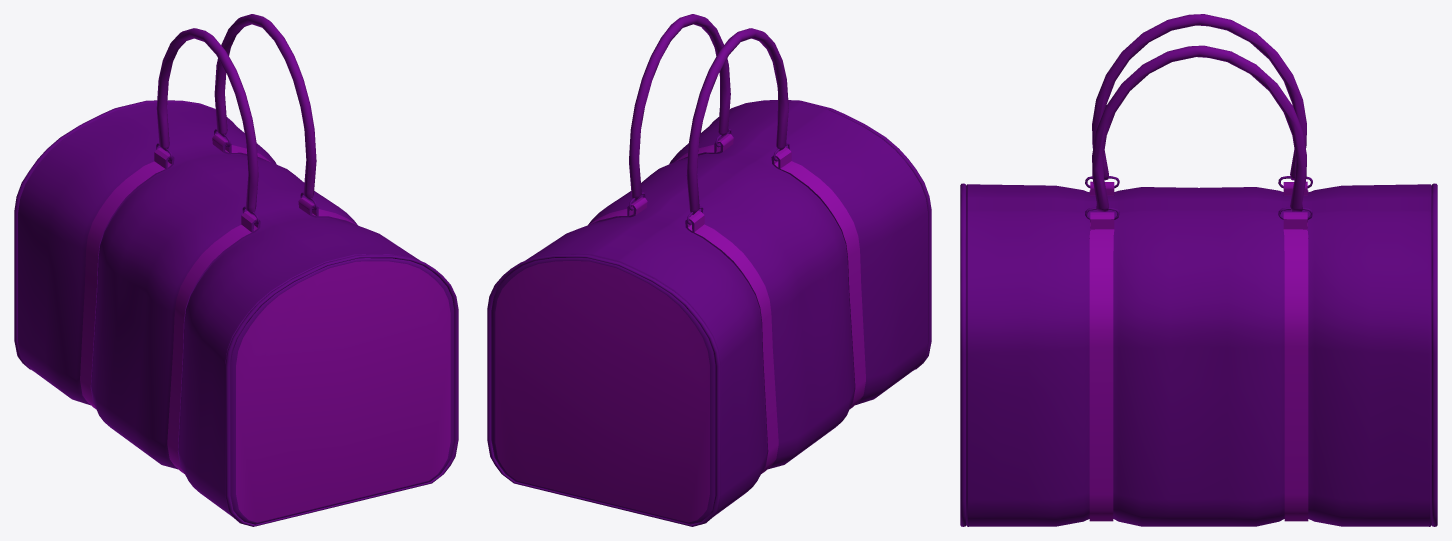
The model's file is PickkBag.fbx.
3 renders of one model, left to right at view 1: azimuth 30°, elevation 25°; view 2: azimuth 150°, elevation 25°; view 3: azimuth 270°, elevation 25°, orthographic. The views are drawn at different scales.
Visible parts, largest first — view 1: PickBag; view 2: PickBag; view 3: PickBag.
Part boxes in pixels (left/top/right/bottom): PickBag: left=14, top=14, right=458, bottom=526; PickBag: left=487, top=14, right=931, bottom=526; PickBag: left=960, top=14, right=1437, bottom=526.
Size of the model in its own units: 0.2399 by 0.3955 by 0.3815.
1 material, 1 textured.
